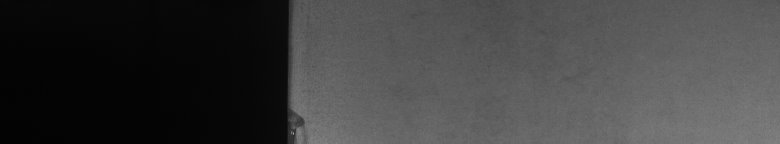hb: (296, 108, 316, 136)
